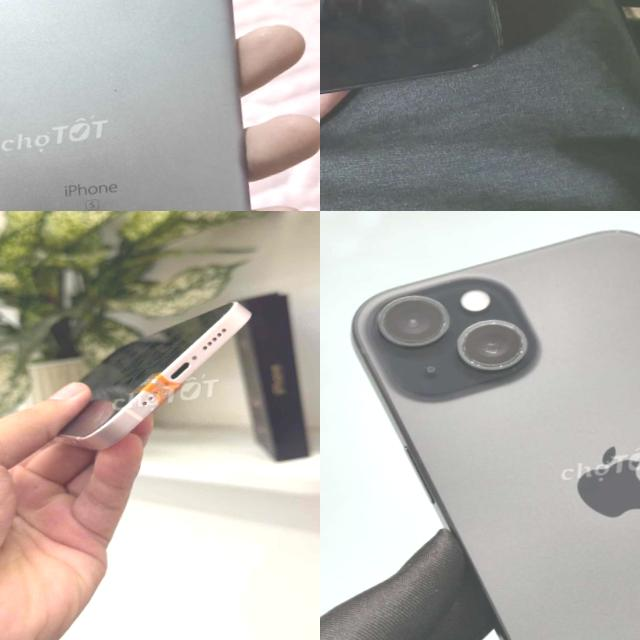scratch: (377, 275, 542, 392), (466, 61, 484, 72)
